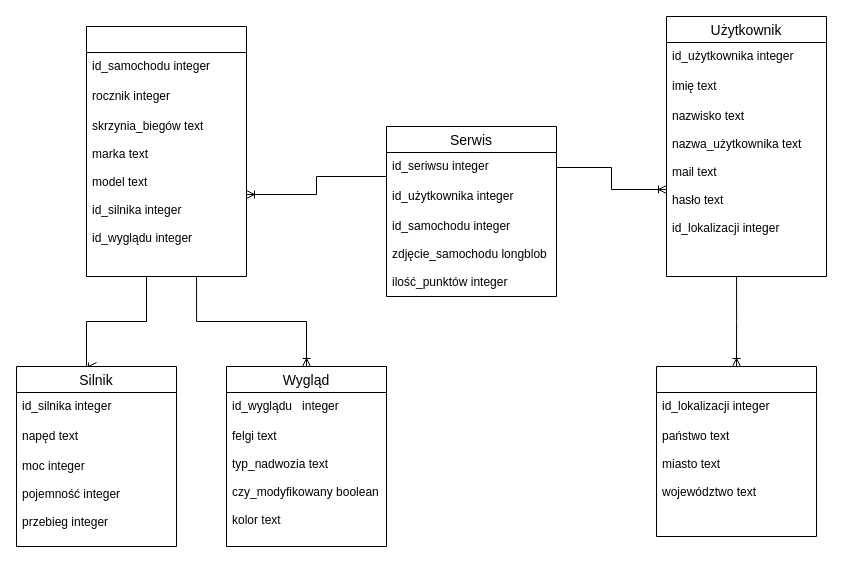
Some shapes in this 843 by 563 pixel diagram are drawn without their labels. Here are the shapes that lost their labels. From the top down, the box of each, then its label:
(86, 26, 246, 276): Samochód
(656, 366, 816, 536): Lokalizacja
